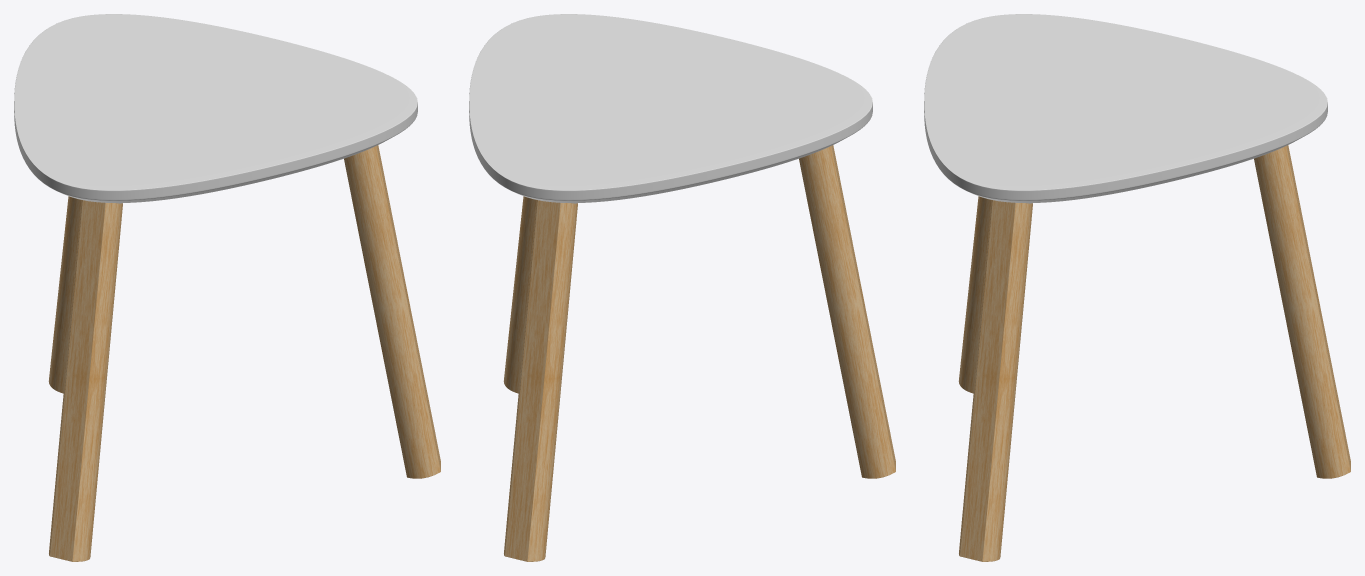
File: small_table.glb
3 renders of one model, left to right at view 1: azimuth 30°, elevation 25°; view 2: azimuth 150°, elevation 25°; view 3: azimuth 270°, elevation 25°, orthographic.
Visible parts, largest first — view 1: Platte_4, Bein_0; view 2: Platte_4, Bein_0; view 3: Platte_4, Bein_0.
Boxes of the visible parts, x1,y1,x2,y2 form: Platte_4: [14, 14, 417, 202]; Bein_0: [48, 145, 440, 561]; Platte_4: [469, 14, 872, 202]; Bein_0: [503, 145, 895, 561]; Platte_4: [924, 14, 1327, 202]; Bein_0: [958, 145, 1350, 561].
Bounding box in the file's own units: 0.3021 × 0.273 × 0.2855.
Materials: 4 (1 with a texture image).
